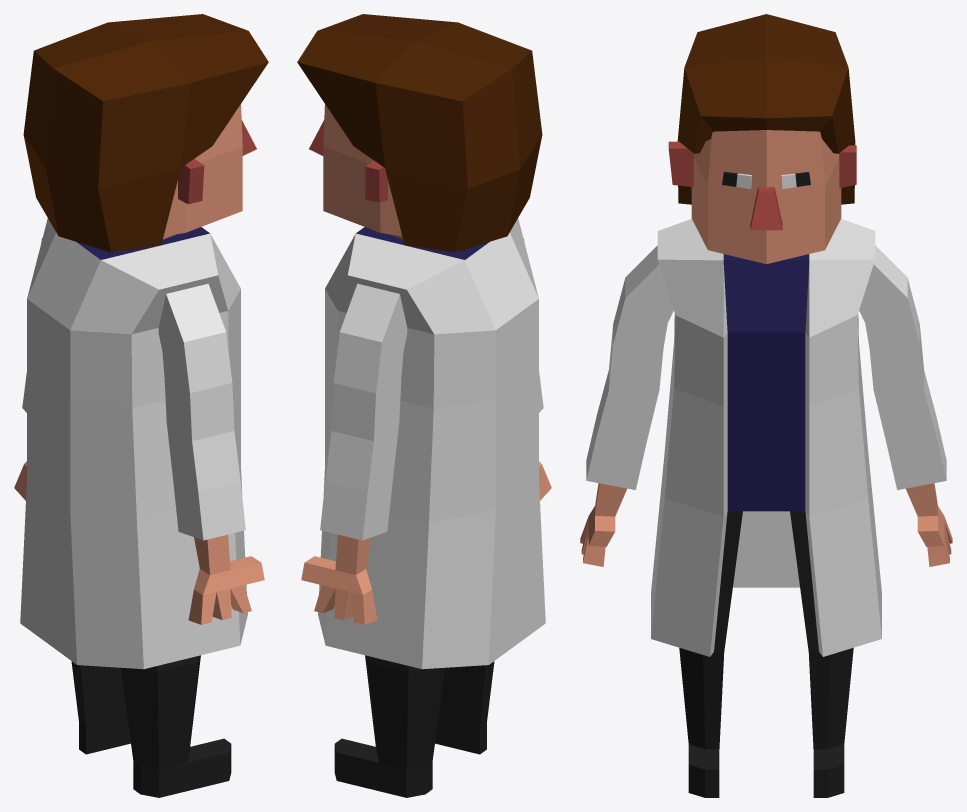
The model's file is vedec.fbx.
3 views of the same model, side by side, from view 1: azimuth 30°, elevation 25°; view 2: azimuth 150°, elevation 25°; view 3: azimuth 270°, elevation 25° (orthographic).
Parts seen in each view (by area): view 1: Cube.003; view 2: Cube.003; view 3: Cube.003.
Boxes of the visible parts, <box> form: Cube.003: <box>14,14,268,797</box>; Cube.003: <box>297,14,551,797</box>; Cube.003: <box>580,14,952,797</box>.
Bounding box in the file's own units: 84.4 × 287 × 135.
